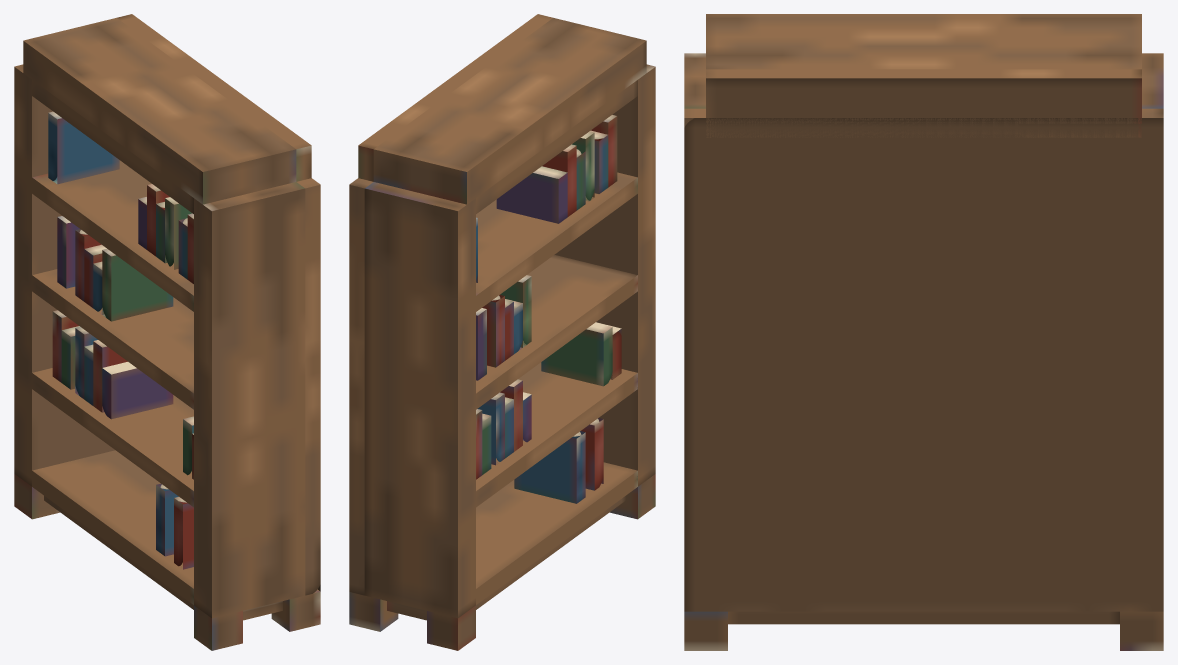
The model's file is bookshelf.fbx.
The picture shows the model from 3 angles, left to right: view 1: azimuth 30°, elevation 25°; view 2: azimuth 150°, elevation 25°; view 3: azimuth 270°, elevation 25°; orthographic projection. The views are drawn at different scales.
Parts seen in each view (by area): view 1: cube_8, cube_7, cube_6, cube, cube_2, cube_3, cube_1, cube_5, cube_9, cube_37, cube_30, cube_27 (+23 smaller); view 2: cube_6, cube_7, cube_8, cube, cube_2, cube_3, cube_1, cube_5, cube_9, cube_35, cube_39, cube_23 (+22 smaller); view 3: cube_5, cube_9, cube_7, cube_15, cube_11, cube_13, cube_8, cube_6.
Boxes of the visible parts, left/top/right/bottom form: cube_8: left=194, top=182, right=305, bottom=618; cube_7: left=23, top=18, right=296, bottom=204; cube_6: left=14, top=64, right=114, bottom=486; cube: left=32, top=450, right=193, bottom=604; cube_2: left=32, top=269, right=193, bottom=409; cube_3: left=32, top=160, right=193, bottom=311; cube_1: left=32, top=368, right=193, bottom=507; cube_5: left=297, top=178, right=320, bottom=595; cube_9: left=117, top=14, right=311, bottom=181; cube_37: left=48, top=111, right=119, bottom=184; cube_30: left=102, top=249, right=173, bottom=321; cube_27: left=102, top=362, right=173, bottom=419; cube_6: left=364, top=182, right=475, bottom=618; cube_7: left=373, top=18, right=646, bottom=204; cube_8: left=554, top=64, right=655, bottom=486; cube: left=476, top=462, right=637, bottom=604; cube_2: left=476, top=255, right=637, bottom=409; cube_3: left=476, top=172, right=637, bottom=311; cube_1: left=476, top=362, right=637, bottom=507; cube_5: left=349, top=178, right=372, bottom=595; cube_9: left=358, top=14, right=552, bottom=181; cube_35: left=514, top=431, right=585, bottom=503; cube_39: left=541, top=322, right=612, bottom=386; cube_23: left=496, top=166, right=567, bottom=223; cube_5: left=684, top=108, right=1163, bottom=611; cube_9: left=706, top=69, right=1141, bottom=137; cube_7: left=706, top=14, right=1141, bottom=69; cube_15: left=728, top=611, right=1119, bottom=624; cube_11: left=684, top=611, right=727, bottom=650; cube_13: left=1120, top=611, right=1163, bottom=650; cube_8: left=684, top=53, right=705, bottom=124; cube_6: left=1142, top=53, right=1163, bottom=108.
Bounding box in the file's own units: 43.75 × 181 × 138.
1 material, 1 textured.
